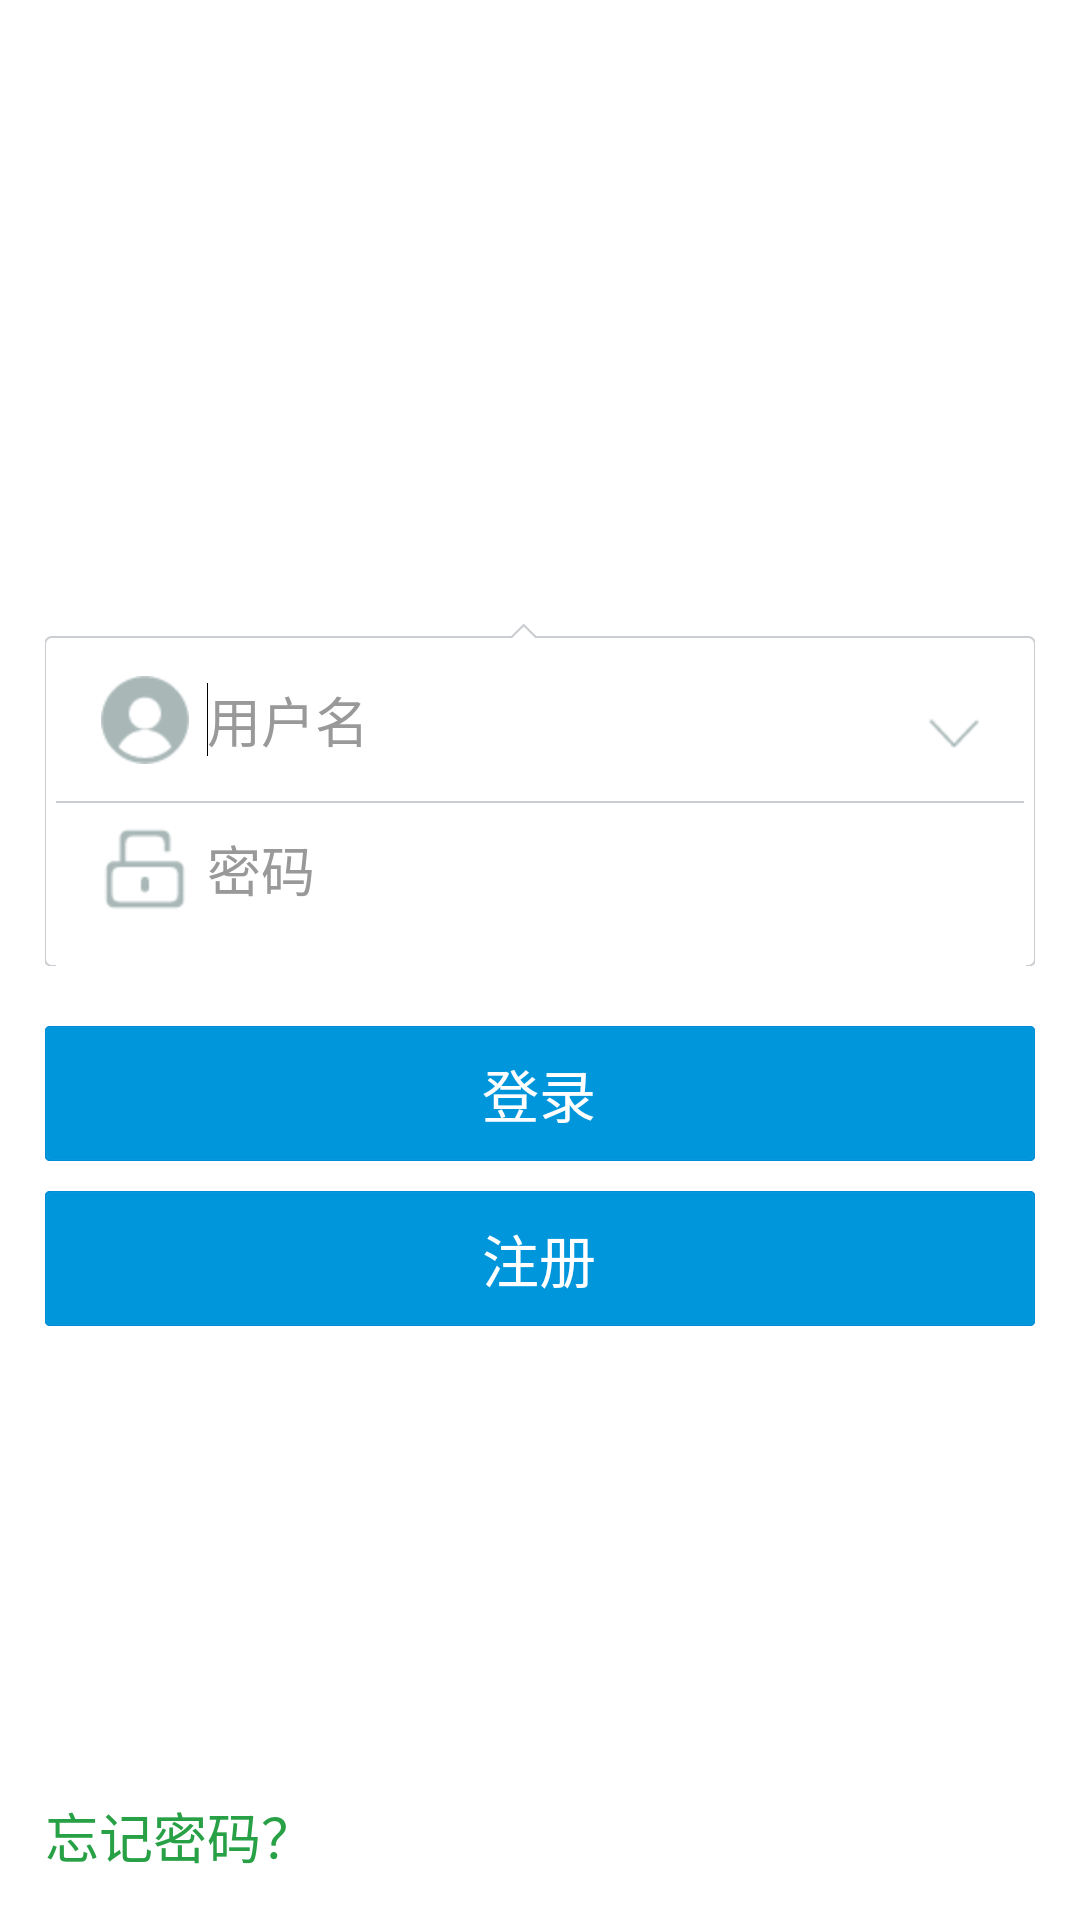

Where to tap for icons on this 1080 × 1920 app screen, as (x=x, y=y):
login more up: (x=954, y=733)
